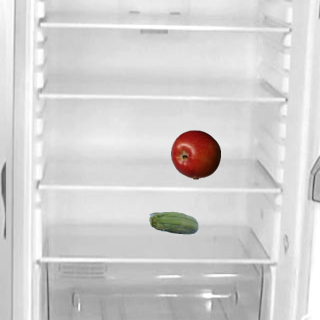Apple Braeburn: (170, 129, 220, 179)
Corn Husk: (148, 199, 198, 249)
